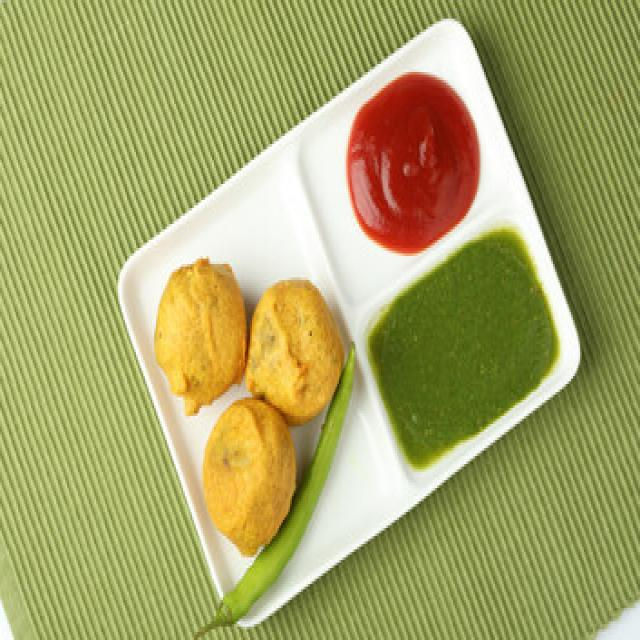BONDA: (154, 257, 345, 559)
GREEN CHUTNEY: (370, 229, 557, 467)
SAUCE: (339, 71, 486, 255)
